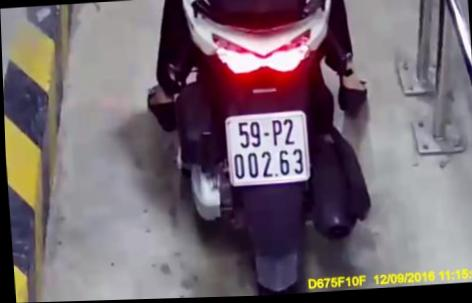LP: (225, 113, 309, 187)
